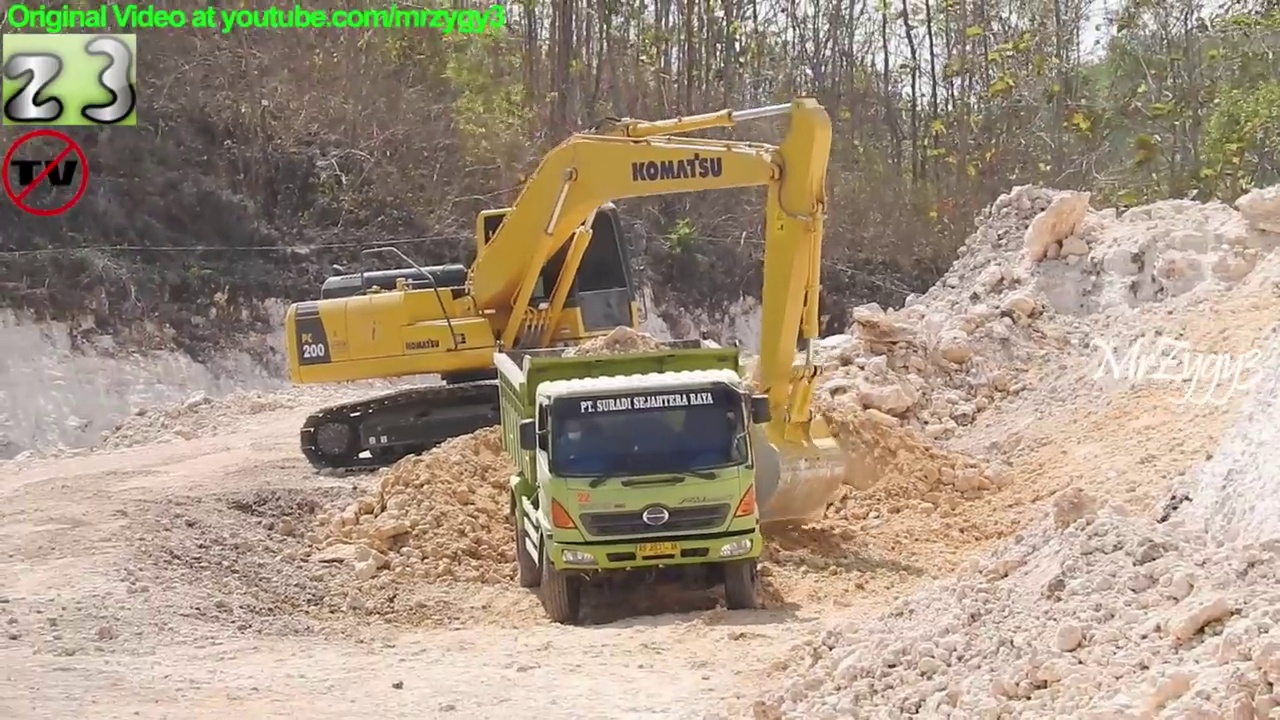excavator: (279, 92, 850, 533)
truck: (488, 321, 777, 633)
